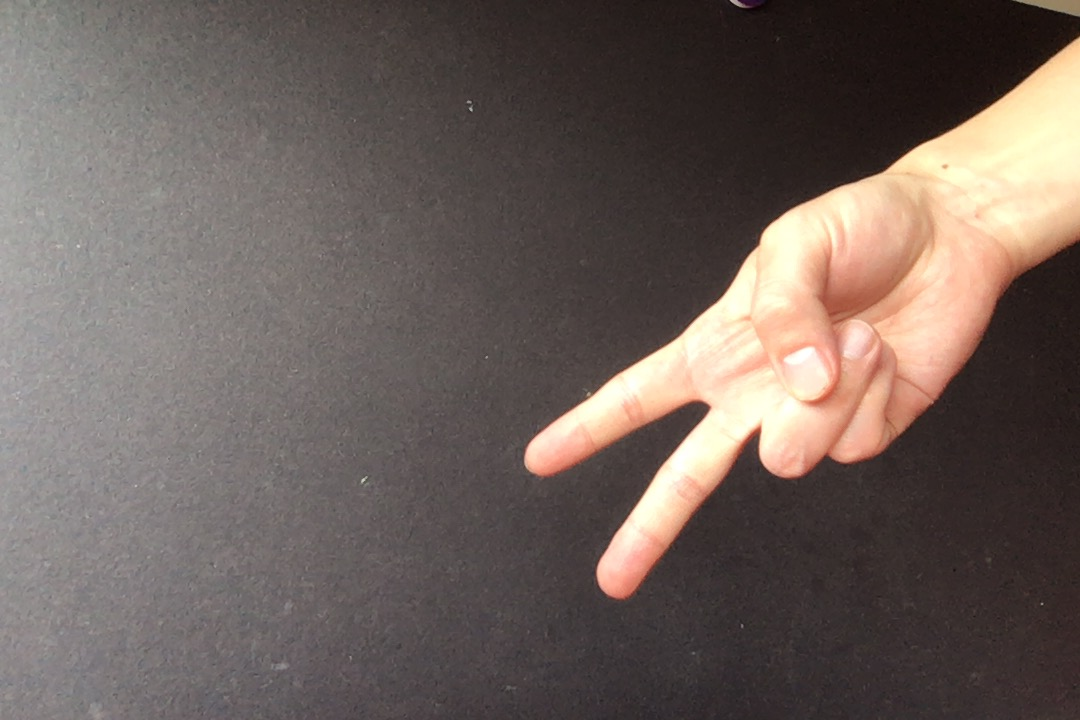peacesign: (517, 183, 1005, 610)
